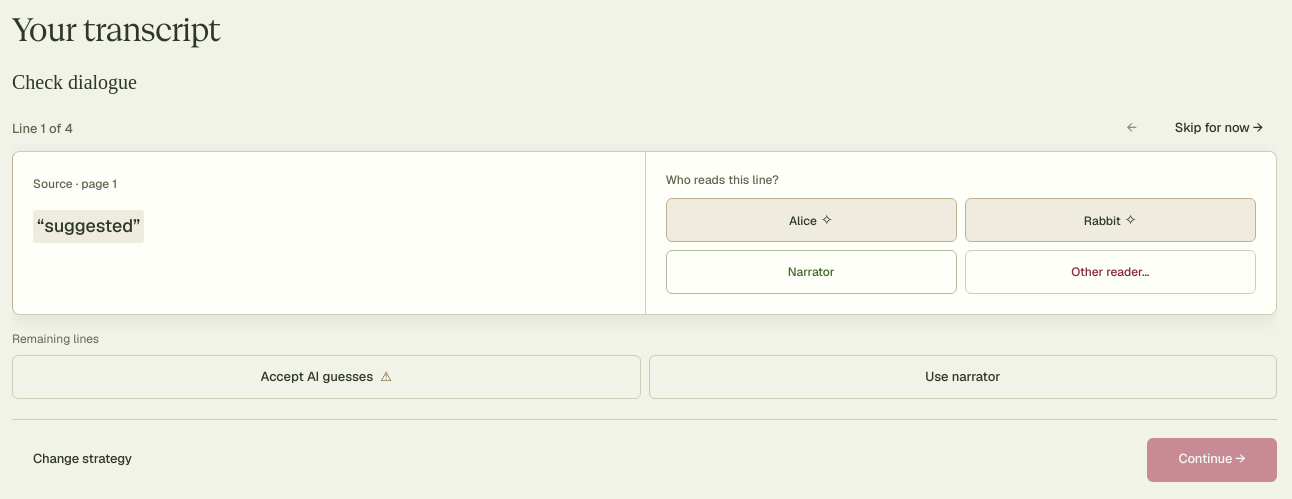
required dialogue review › puts ambiguous and narrator-fallback lines before confident AI assignments
Expected: the text "“suggested”" is shown, [33, 210, 144, 243]
Click the button with aria-label "Choose Alice". click: click(811, 220)
box: [666, 198, 957, 242]
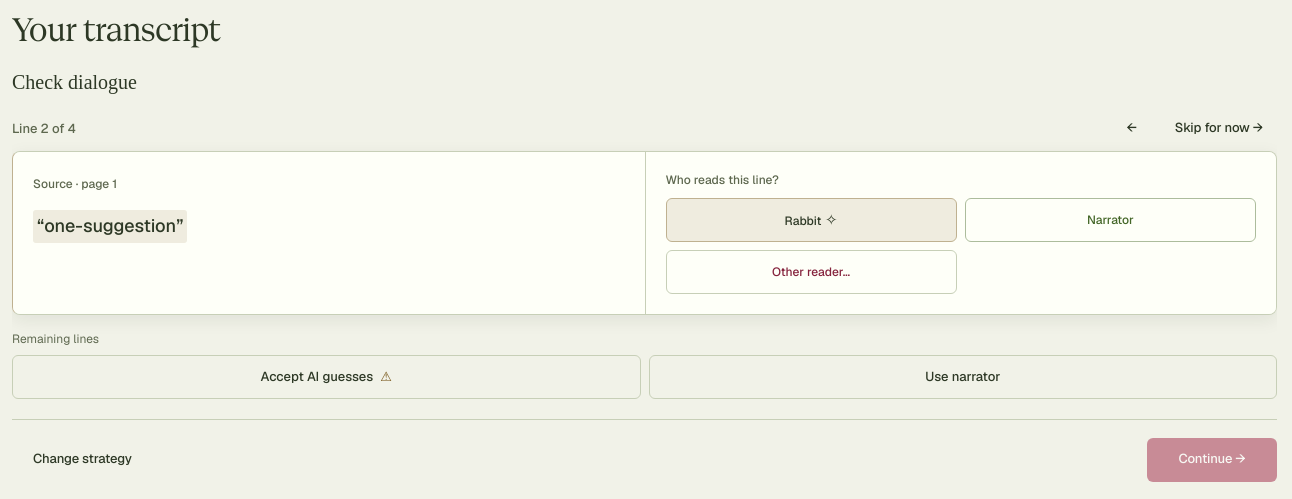
Now the text "“one-suggestion”" is shown, box [33, 210, 187, 243]
Click the button with aria-label "Choose Rabbit". click: click(811, 220)
box: [666, 198, 957, 242]
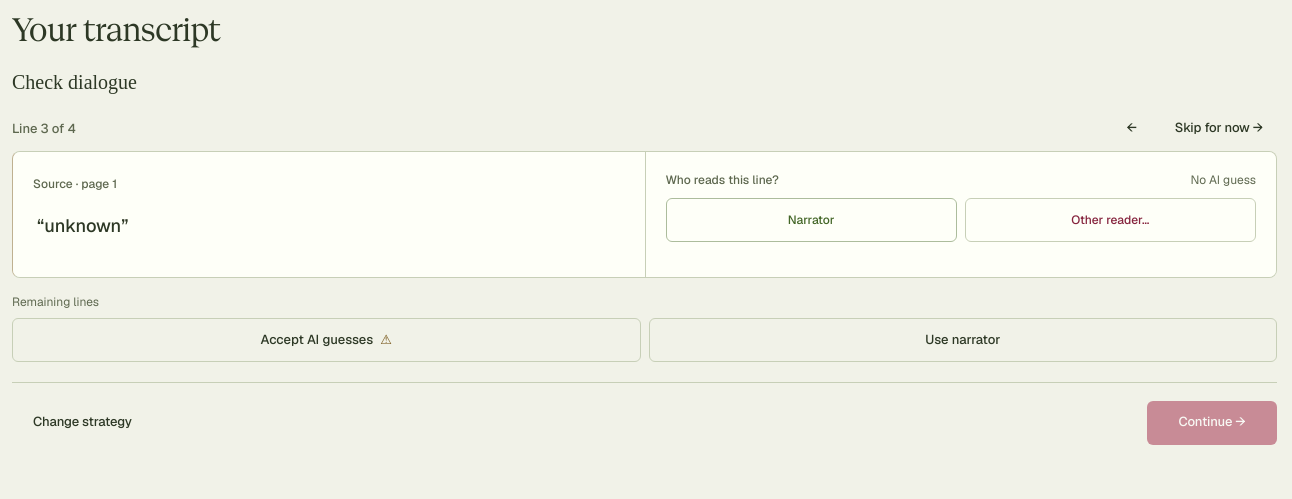
Expected: the button "Continue →" is disabled, [1147, 401, 1277, 445]
Now the text "“unknown”" is shown, box [33, 210, 132, 243]
Click the button with aria-label "Choose Narrator". click: click(811, 220)
box: [666, 198, 957, 242]
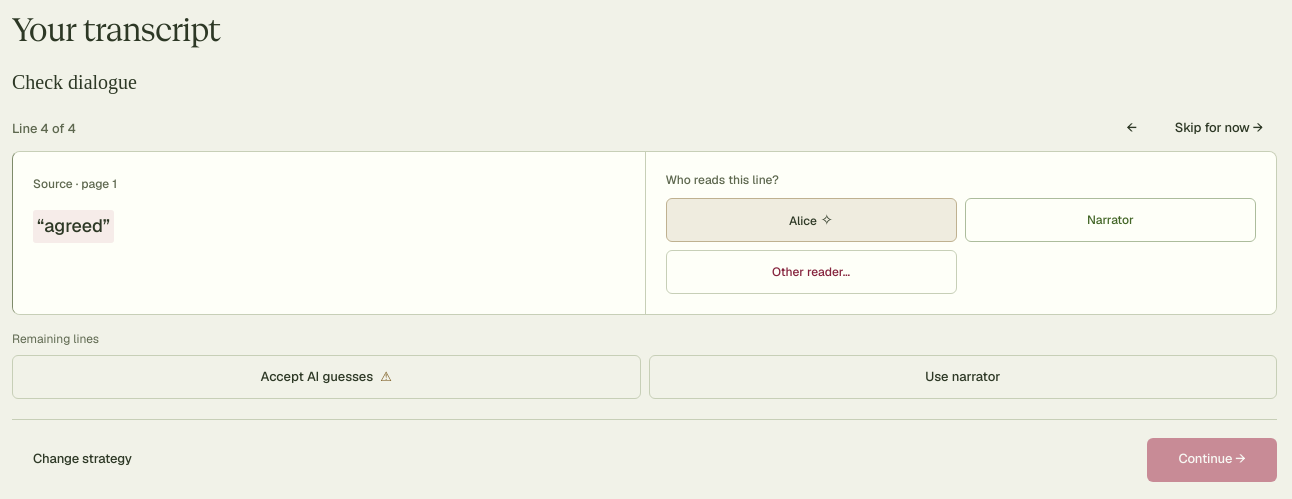
Now the text "“agreed”" is shown, box [33, 210, 114, 243]
